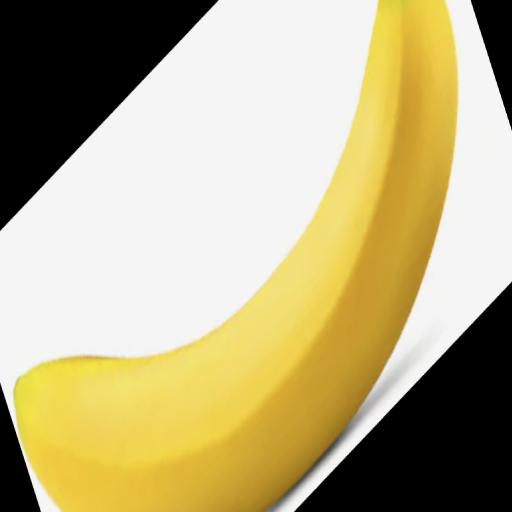banana-ripe: (2, 0, 512, 512)
